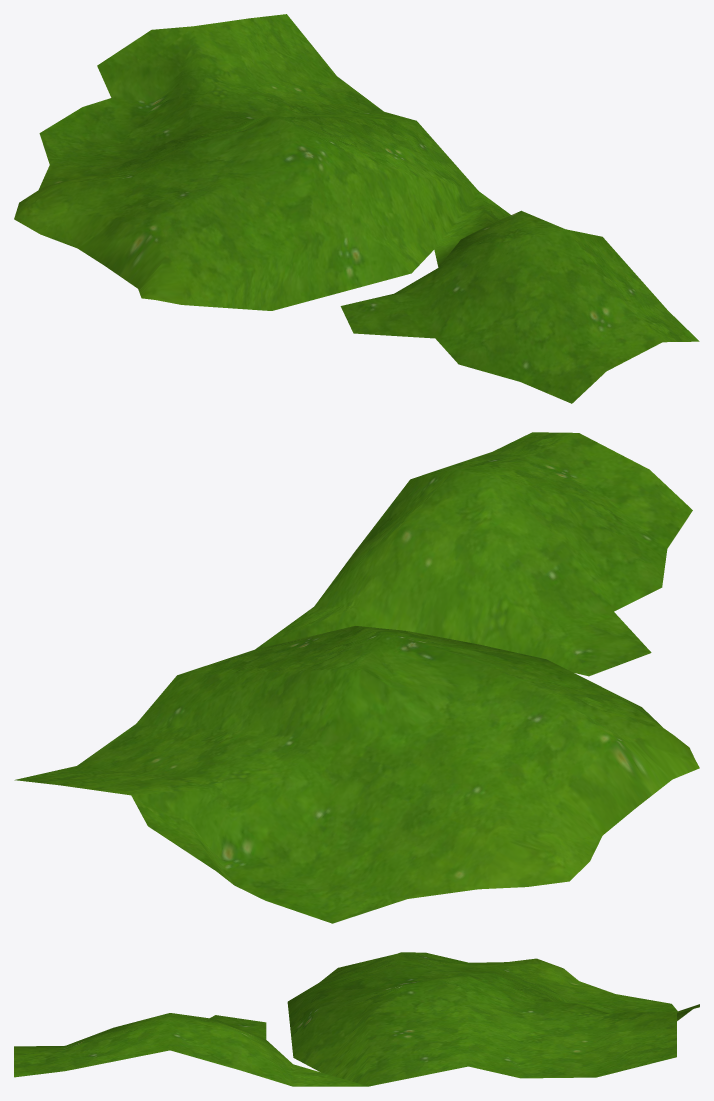
The model's file is Amazon04_Terrain05.FBX.
3 views of the same model, one above another, from view 1: azimuth 30°, elevation 25°; view 2: azimuth 150°, elevation 25°; view 3: azimuth 270°, elevation 25° (orthographic). The views are drawn at different scales.
Parts seen in each view (by area): view 1: Amazon04_Terrain05; view 2: Amazon04_Terrain05; view 3: Amazon04_Terrain05.
Boxes of the visible parts, bbox=[...] form: Amazon04_Terrain05: bbox=[14, 14, 699, 403]; Amazon04_Terrain05: bbox=[14, 432, 699, 923]; Amazon04_Terrain05: bbox=[14, 952, 699, 1086].
Size of the model in its own units: 7506 by 1725 by 15531.
